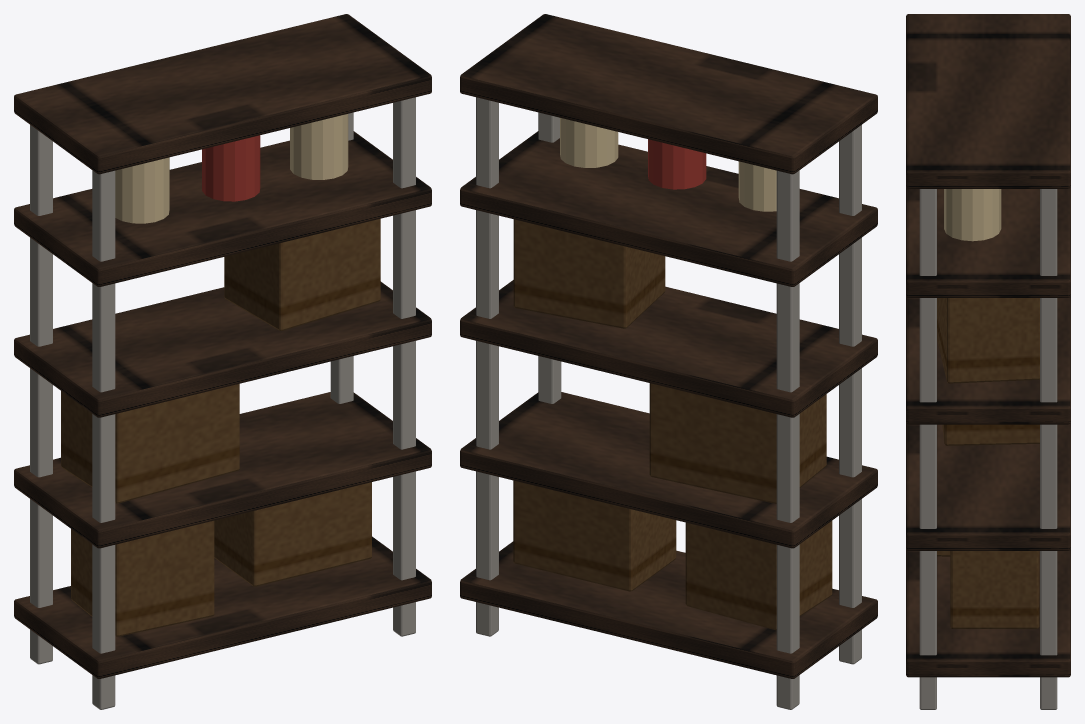
File: basement-storage-shelf.glb
3 renders of one model, left to right at view 1: azimuth 30°, elevation 25°; view 2: azimuth 150°, elevation 25°; view 3: azimuth 270°, elevation 25°, orthographic. The views are drawn at different scales.
Visible parts, largest first — view 1: SM_lonely_basement_storage_shelf_Wood_DarkStained, SM_lonely_basement_storage_shelf_Paper_Cardboard, SM_lonely_basement_storage_shelf_Metal_DullChrome, SM_lonely_basement_storage_shelf_Paper_Label, SM_Prop_ShelfCan_1; view 2: SM_lonely_basement_storage_shelf_Wood_DarkStained, SM_lonely_basement_storage_shelf_Paper_Cardboard, SM_lonely_basement_storage_shelf_Metal_DullChrome, SM_lonely_basement_storage_shelf_Paper_Label, SM_Prop_ShelfCan_1; view 3: SM_lonely_basement_storage_shelf_Wood_DarkStained, SM_lonely_basement_storage_shelf_Paper_Cardboard, SM_lonely_basement_storage_shelf_Metal_DullChrome, SM_lonely_basement_storage_shelf_Paper_Label.
Part boxes in pixels (x1,y1,x2,y2): SM_lonely_basement_storage_shelf_Wood_DarkStained: (14, 14, 431, 678); SM_lonely_basement_storage_shelf_Paper_Cardboard: (61, 218, 380, 636); SM_lonely_basement_storage_shelf_Metal_DullChrome: (30, 97, 415, 709); SM_lonely_basement_storage_shelf_Paper_Label: (115, 114, 348, 223); SM_Prop_ShelfCan_1: (202, 135, 260, 201); SM_lonely_basement_storage_shelf_Wood_DarkStained: (460, 14, 877, 678); SM_lonely_basement_storage_shelf_Paper_Cardboard: (513, 219, 832, 630); SM_lonely_basement_storage_shelf_Metal_DullChrome: (476, 97, 861, 709); SM_lonely_basement_storage_shelf_Paper_Label: (560, 118, 776, 211); SM_Prop_ShelfCan_1: (648, 139, 706, 189); SM_lonely_basement_storage_shelf_Wood_DarkStained: (906, 14, 1070, 677); SM_lonely_basement_storage_shelf_Paper_Cardboard: (937, 298, 1039, 628); SM_lonely_basement_storage_shelf_Metal_DullChrome: (919, 189, 1057, 709); SM_lonely_basement_storage_shelf_Paper_Label: (944, 189, 1001, 241).
Size of the model in its own units: 1.18 by 1.89 by 0.52.
Materials: 5 (2 with a texture image).
